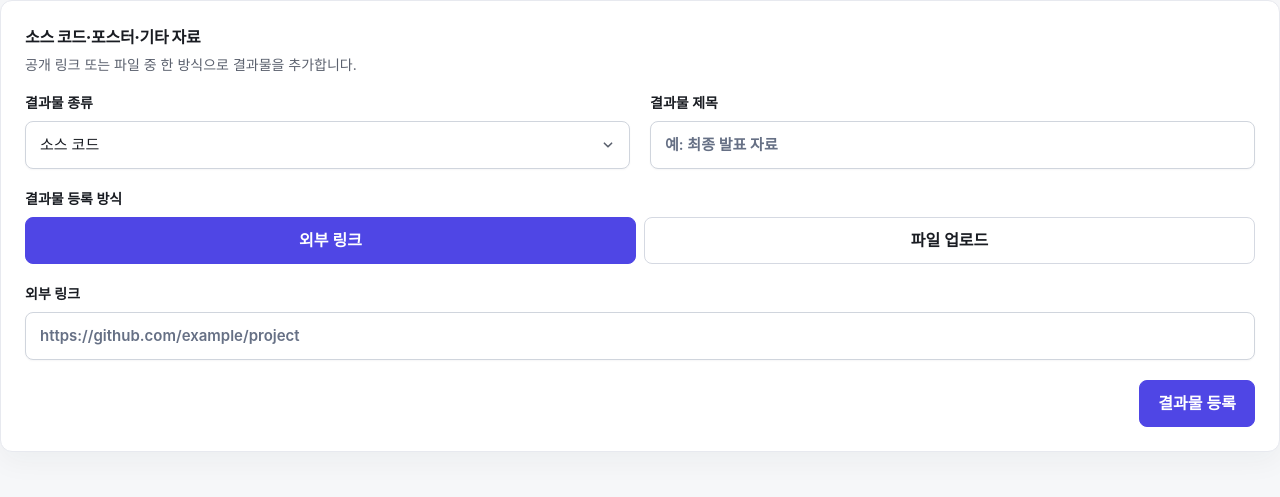
Scenario: 보고서 요구사항 화면 › 결과물 링크와 파일 등록을 모달 없이 화면 안에서 전환한다
Expected: the field labelled "외부 링크" is shown, [25,312,1255,360]
Click the button "파일 업로드": (950, 240) [644,217,1255,264]
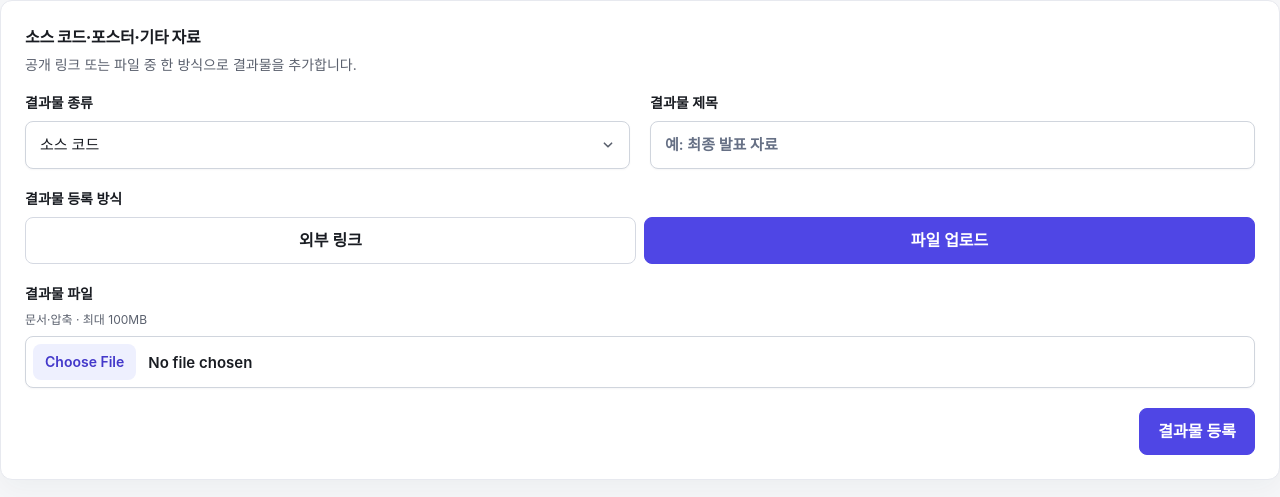
Result: the file field labelled "결과물 파일" is shown at [25,336,1255,388]
